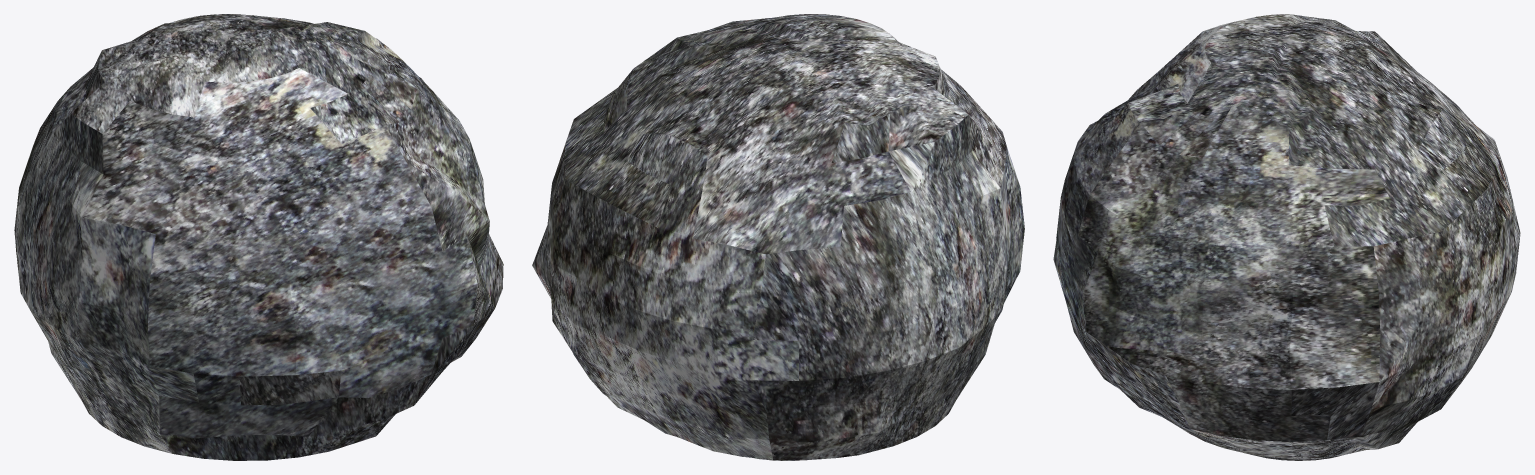
Rendered from rock.obj.
3 renders of one model, left to right at view 1: azimuth 30°, elevation 25°; view 2: azimuth 150°, elevation 25°; view 3: azimuth 270°, elevation 25°, orthographic. The views are drawn at different scales.
Visible parts, largest first — view 1: Sphere; view 2: Sphere; view 3: Sphere.
Part boxes in pixels (left/top/right/bottom): Sphere: left=14, top=14, right=503, bottom=460; Sphere: left=532, top=14, right=1024, bottom=460; Sphere: left=1053, top=14, right=1520, bottom=460.
Size of the model in its own units: 2.1 by 1.93 by 2.13.
